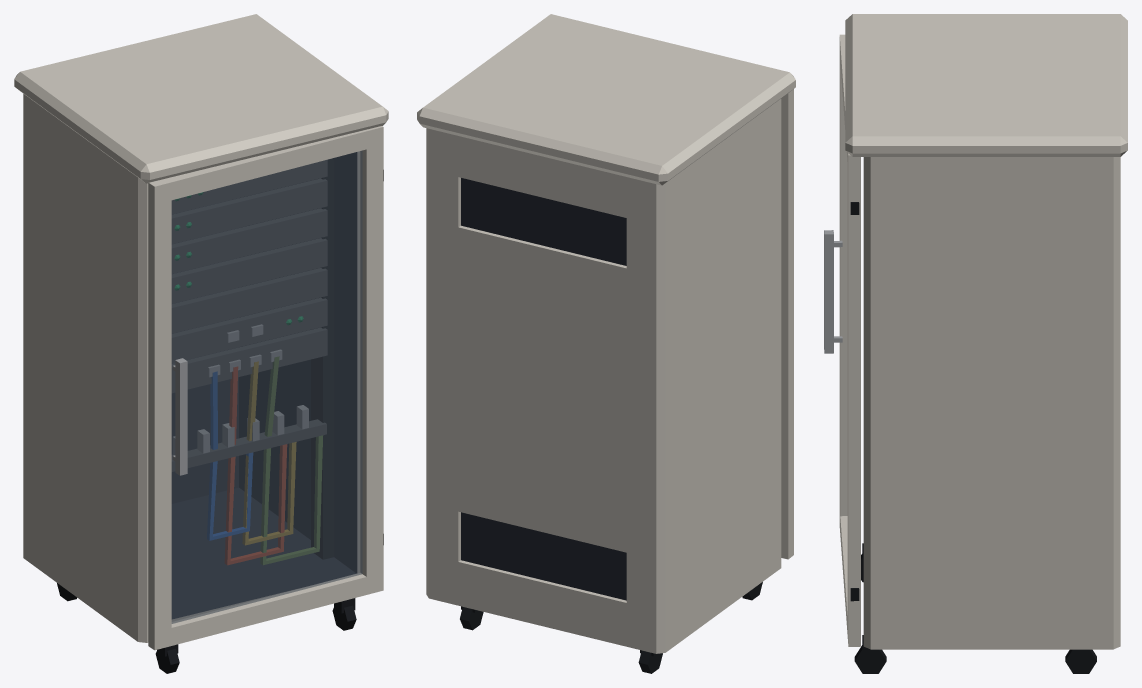
File: server-rack.glb
The picture shows the model from 3 angles, left to right: view 1: azimuth 30°, elevation 25°; view 2: azimuth 150°, elevation 25°; view 3: azimuth 270°, elevation 25°; orthographic projection. The views are drawn at different scales.
Visible parts, largest first — view 1: object 1, door; view 2: object 1, door; view 3: object 1, door.
Part boxes in pixels (box(x1,y1,x2,y2)): object 1: box(14, 14, 388, 673); door: box(148, 126, 383, 650); object 1: box(417, 14, 795, 673); door: box(781, 89, 793, 559); object 1: box(845, 14, 1127, 673); door: box(824, 34, 860, 646).
Bounding box in the file's own units: 0.6 × 1.2 × 0.5998.
